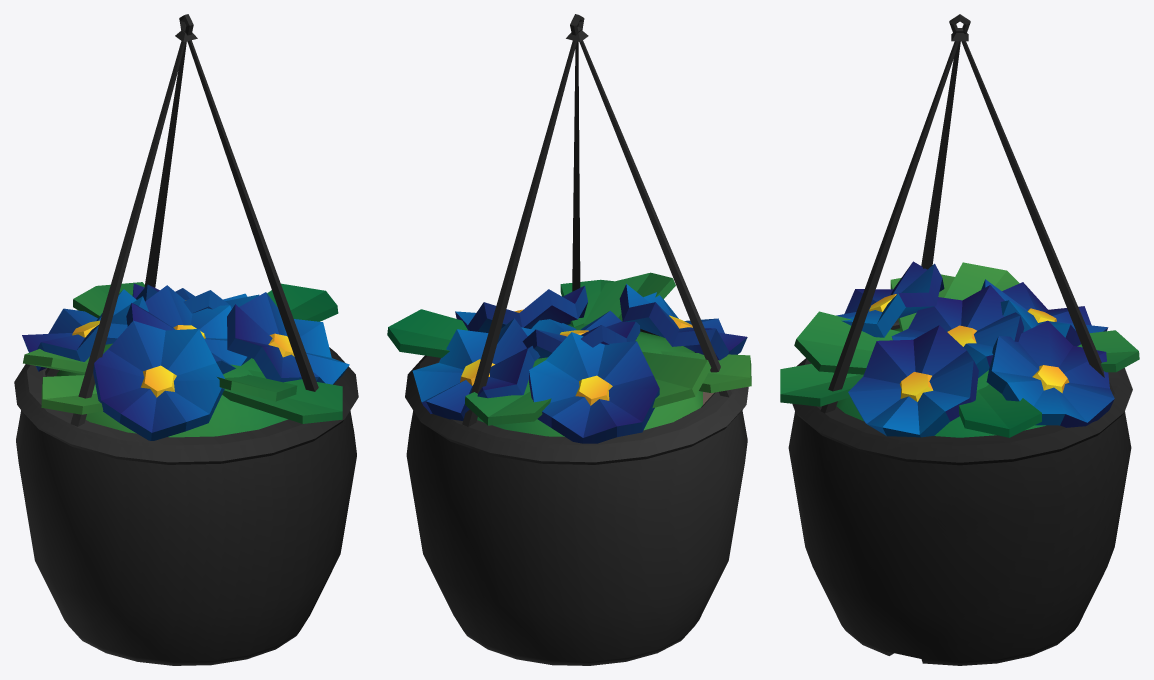
Rendered from HangingFlowerPotBlue.fbx.
3 renders of one model, left to right at view 1: azimuth 30°, elevation 25°; view 2: azimuth 150°, elevation 25°; view 3: azimuth 270°, elevation 25°, orthographic.
Parts seen in each view (by area): view 1: HangingFlowerPotBlue; view 2: HangingFlowerPotBlue; view 3: HangingFlowerPotBlue.
Part boxes in pixels (x1,y1,x2,y2): HangingFlowerPotBlue: (14, 14, 358, 665); HangingFlowerPotBlue: (387, 14, 751, 665); HangingFlowerPotBlue: (780, 14, 1139, 665).
Size of the model in its own units: 0.8492 by 1.5 by 0.8144.
